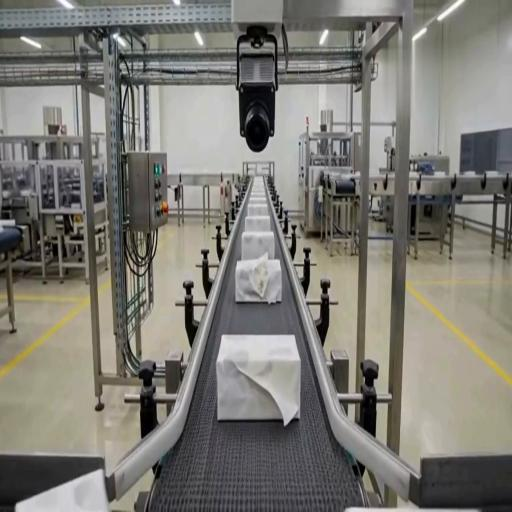defective: (216, 334, 300, 424), (234, 256, 282, 304)
good: (240, 231, 275, 262), (344, 504, 479, 512), (243, 215, 272, 233), (245, 203, 270, 217), (247, 183, 269, 197)
